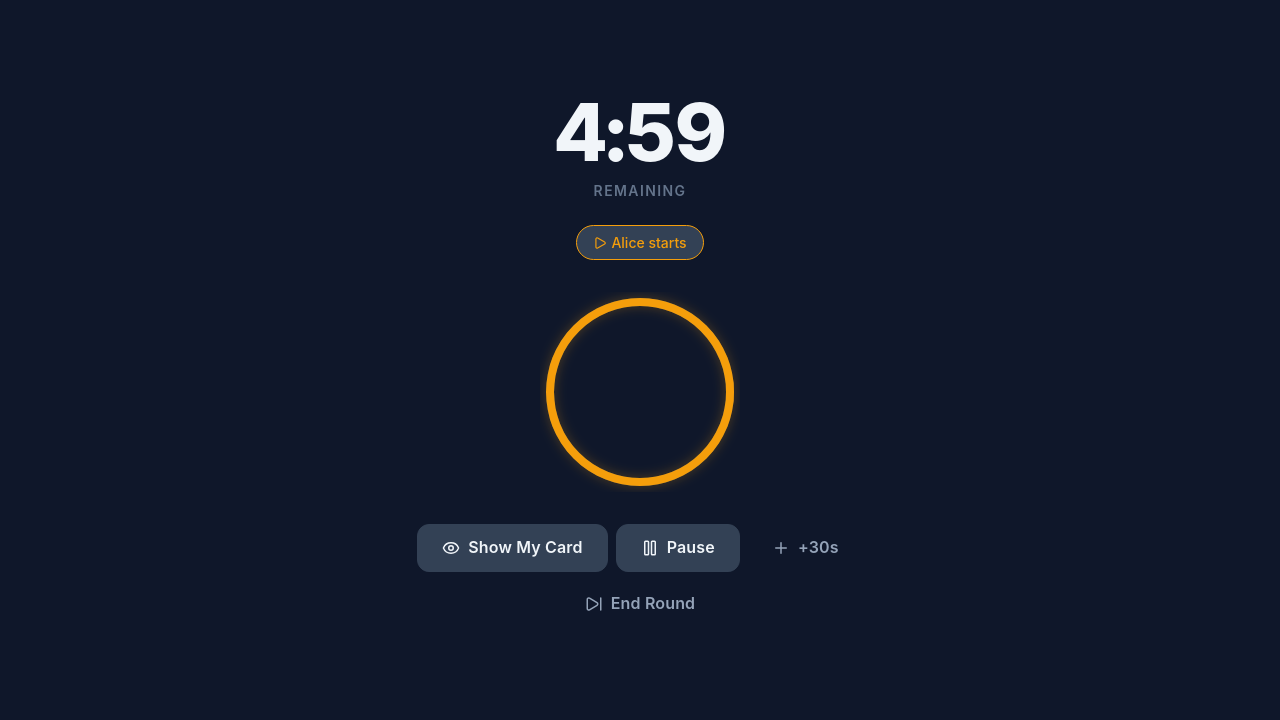
Test: DiscussionTimer card review › reopens a specific player card and reports it in the paused state
This screenshot has width=1280, height=720.
Expected: the text "5:00" is shown, [555,92,725,172]
Click the button "Show My Card" at (512,548), box [417,524,608,572]
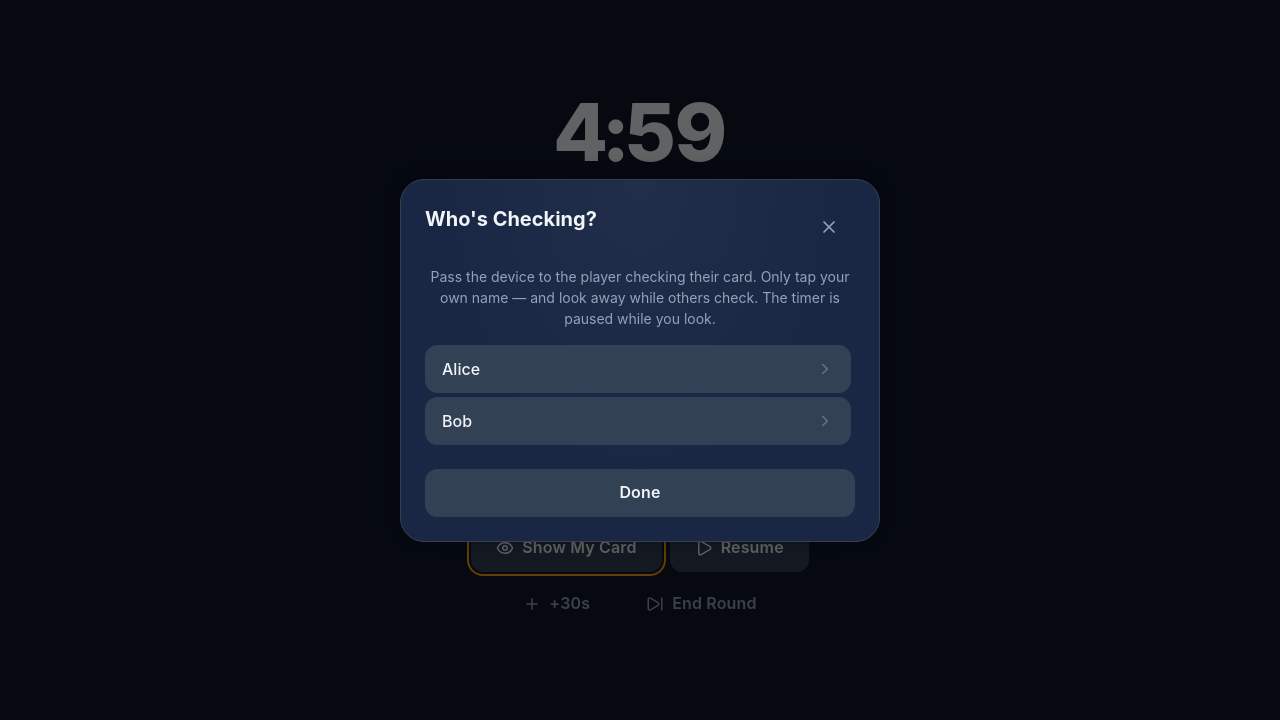
Expected: the dialog "Who's Checking?" is shown
Expected: the button "Resume" is shown, [670,524,809,572]
Click the button "Alice" at (461,368), box [425,344,851,392]
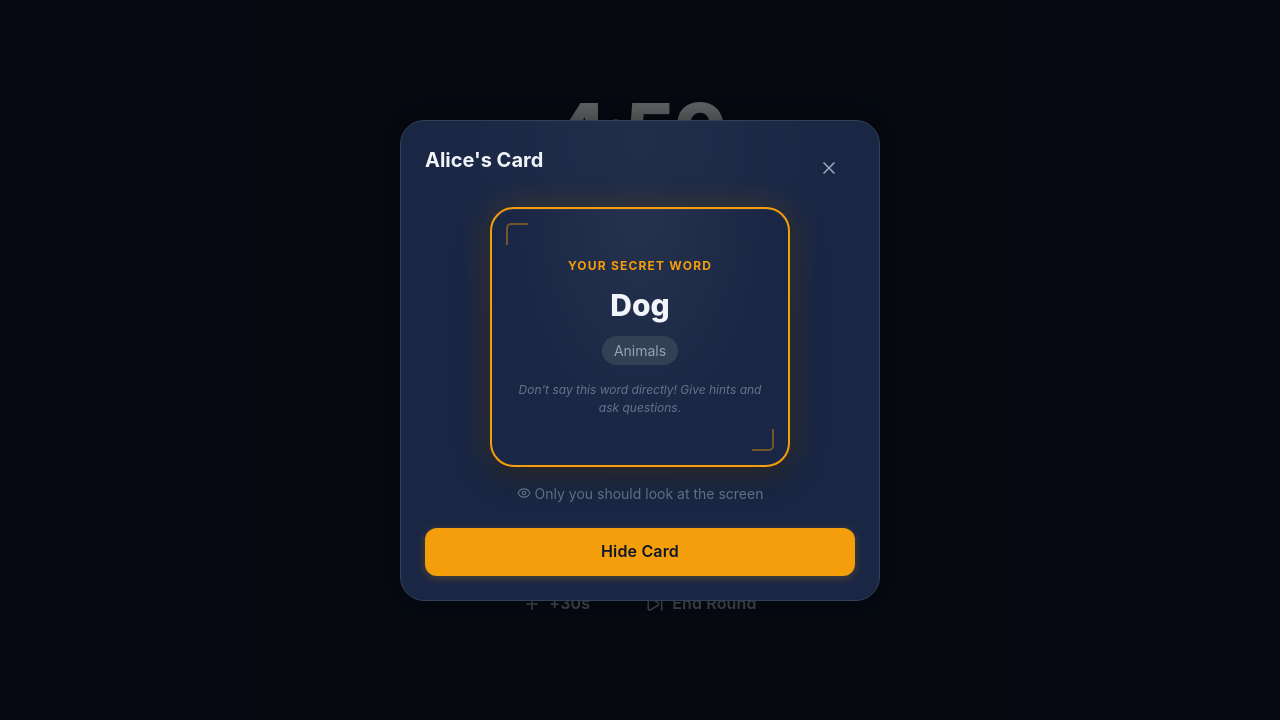
Expected: the text "Dog" is shown, [610,282,670,328]
Click the button "Hide Card" at (640,552), box [425,528,855,576]
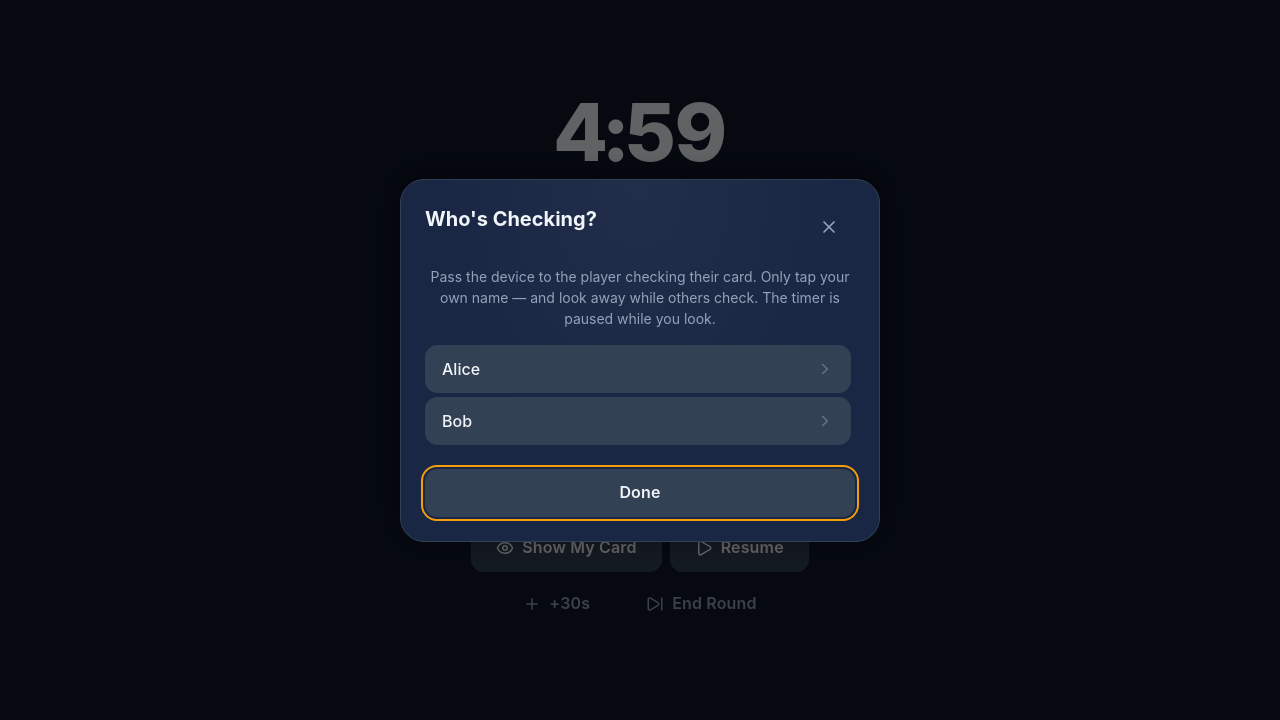
Click the button "Done" at (640,492), box [425,468,855,516]
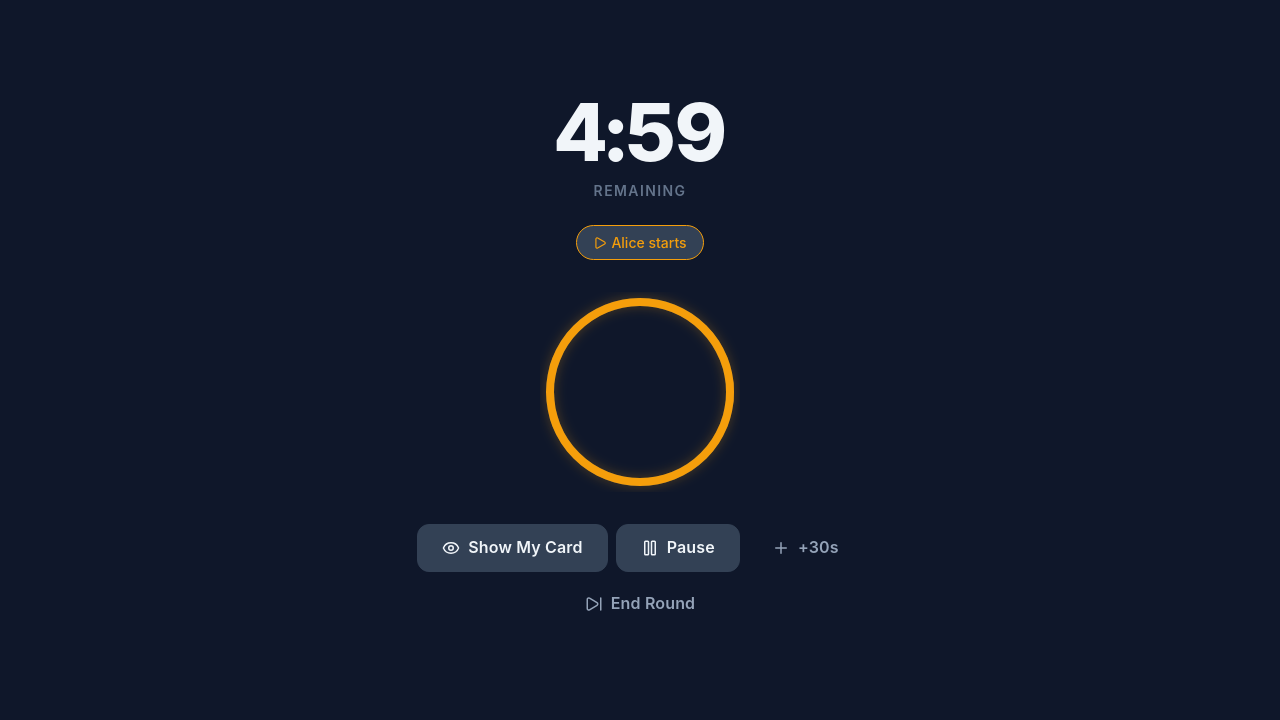
Expected: the dialog is gone
Expected: the button "Pause" is shown, [616,524,740,572]
